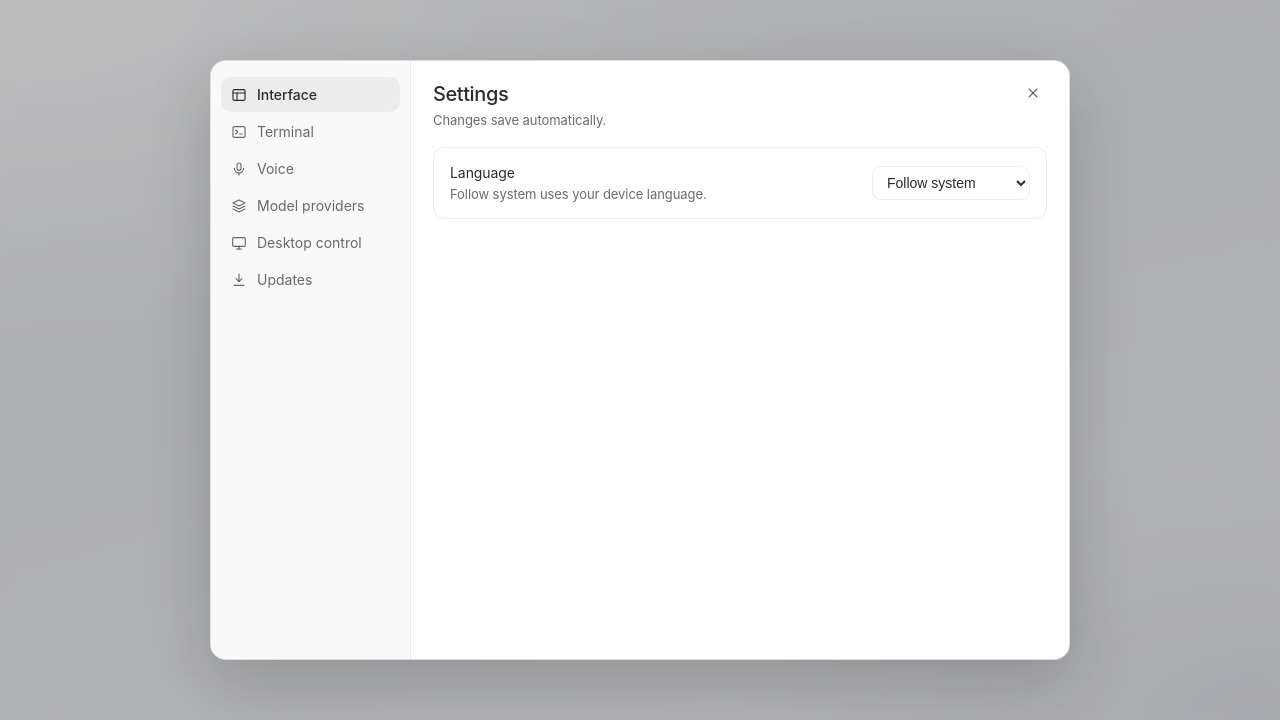
Test: SettingsDialog › opens on the first category and swaps the body when another is picked
The width and height of the screenshot is (1280, 720).
expect the dropdown named "Language" is shown: met, box [872,166,1030,200]
expect the field labelled "Terminal theme" is not shown: met
Click the button "Terminal".
click(310, 132)  # box [221,114,400,149]
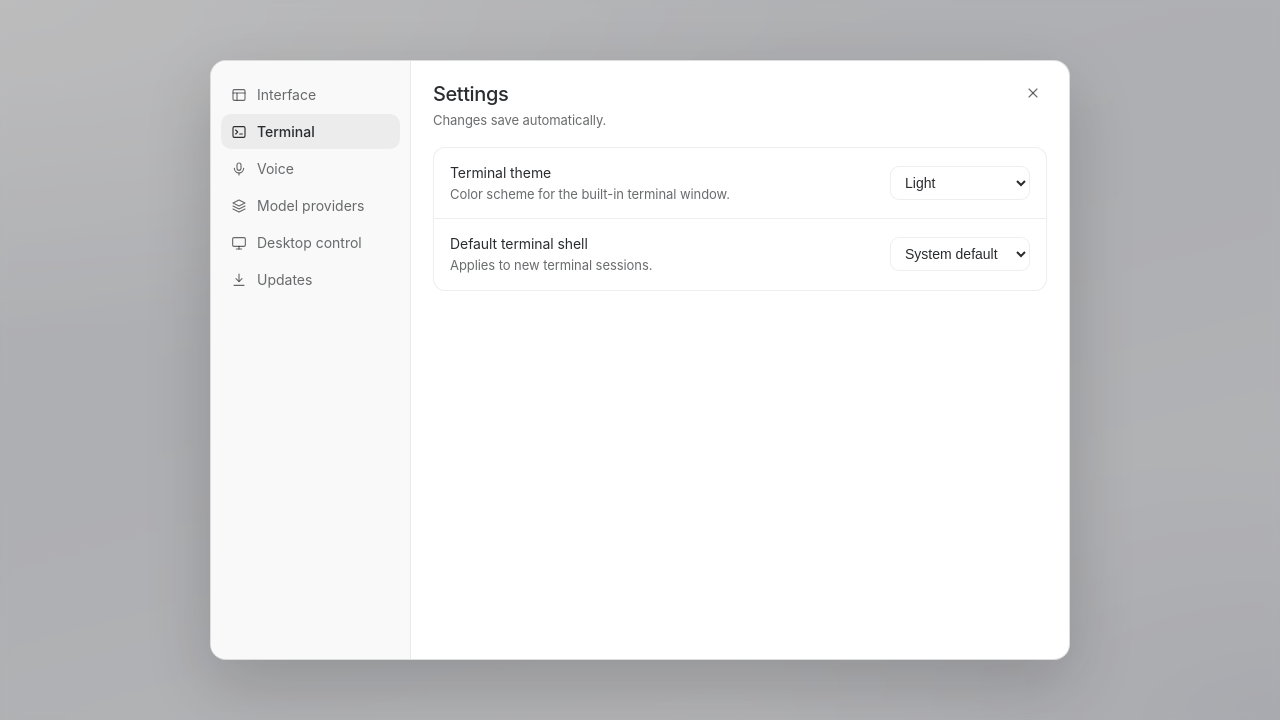
expect the dropdown named "Terminal theme" is shown: met, box [890,166,1030,200]
expect the text labelled "Language" is gone: met
